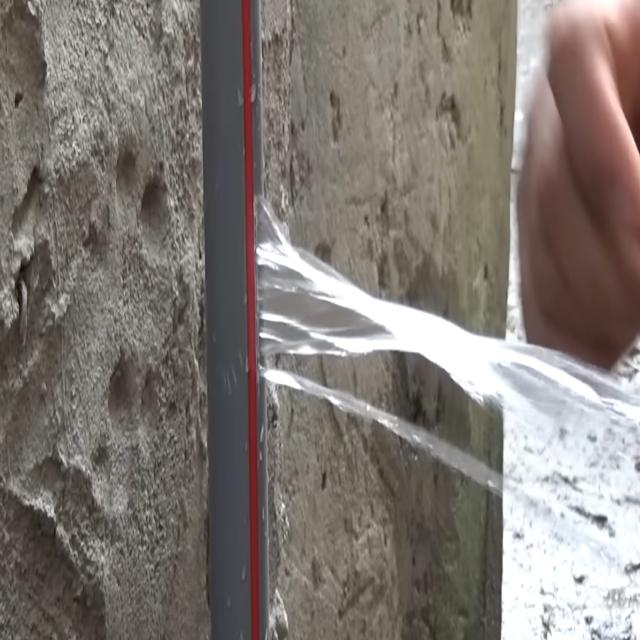leak: (256, 200, 640, 638)
